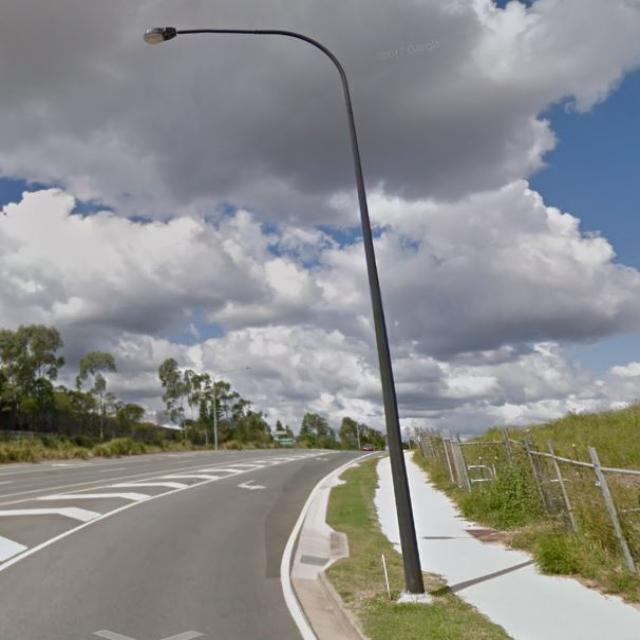steel-pole: (343, 77, 426, 593)
streetlight: (142, 24, 351, 89)
